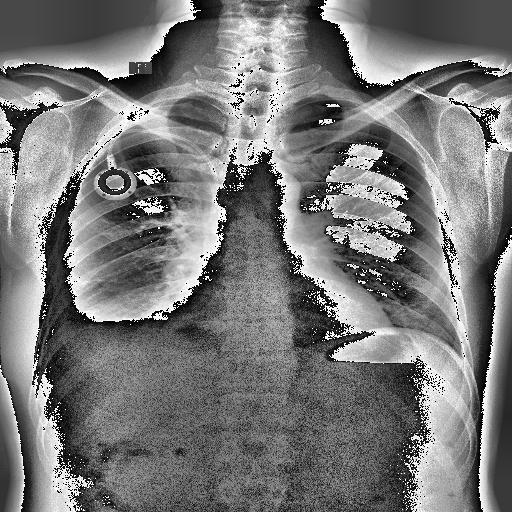10- Pleural effusion: (33, 260, 193, 382), (43, 284, 111, 360)
11- Pleural thickening: (34, 286, 131, 352)
3- Cardiomegaly: (169, 292, 397, 362), (166, 286, 398, 342)
7- Lung Opacity: (84, 314, 168, 342)
